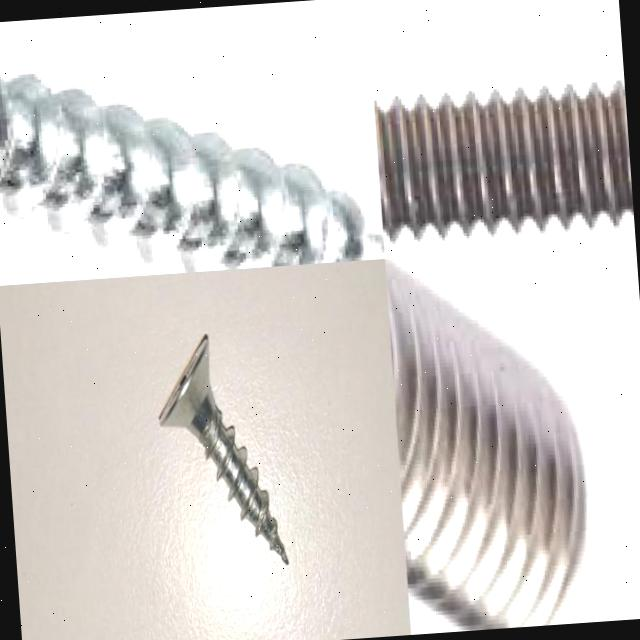Screw: (0, 70, 385, 272), (385, 258, 583, 631), (374, 81, 634, 235), (158, 335, 288, 565)
